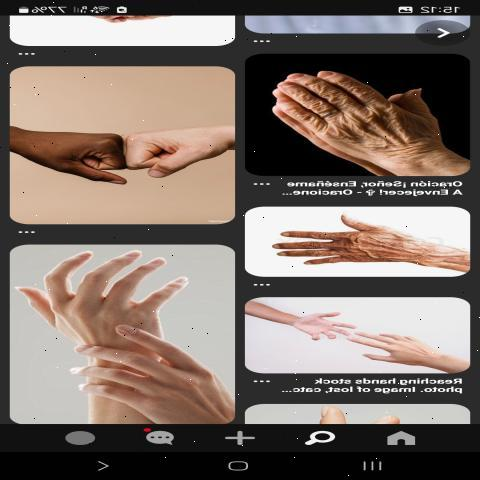Hands: (40, 318, 227, 422), (264, 71, 443, 170), (22, 243, 204, 340), (265, 211, 457, 268), (346, 315, 454, 370), (245, 299, 357, 348)
